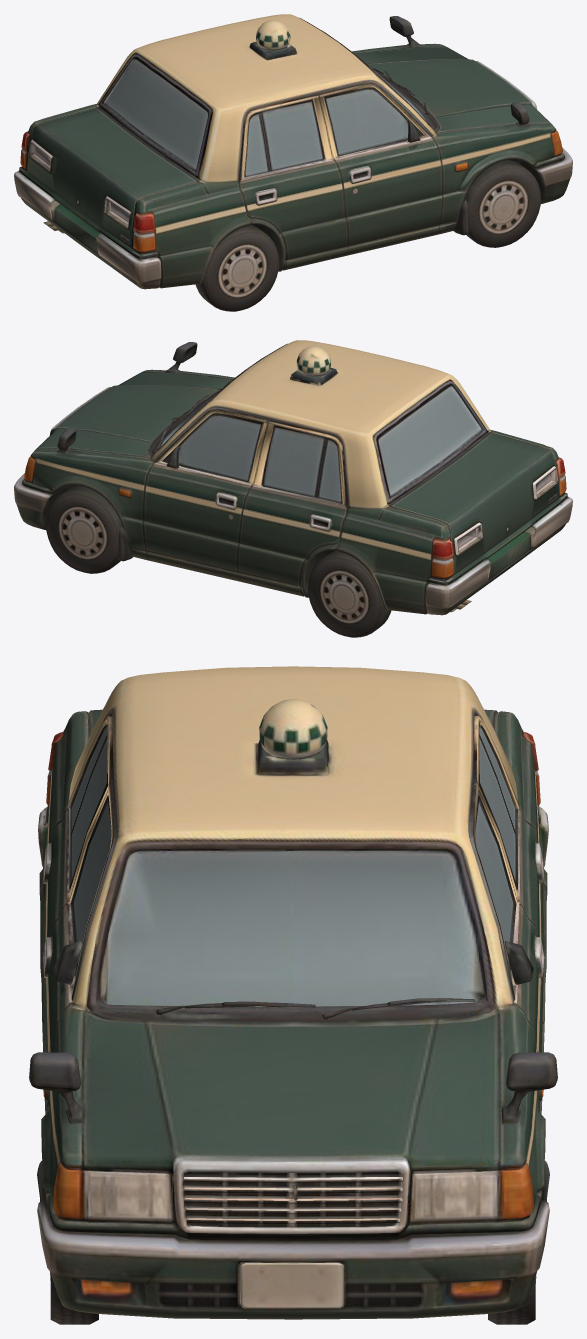
File: taxi.glb
3 renders of one model, top to bottom at view 1: azimuth 30°, elevation 25°; view 2: azimuth 150°, elevation 25°; view 3: azimuth 270°, elevation 25°, orthographic. The views are drawn at different scales.
Parts seen in each view (by area): view 1: tripo_node_44418f03-9c34-45d1-bb22-54dd6b7bd6d0; view 2: tripo_node_44418f03-9c34-45d1-bb22-54dd6b7bd6d0; view 3: tripo_node_44418f03-9c34-45d1-bb22-54dd6b7bd6d0.
Part boxes in pixels (x1,y1,x2,y2): tripo_node_44418f03-9c34-45d1-bb22-54dd6b7bd6d0: [14, 14, 572, 311]; tripo_node_44418f03-9c34-45d1-bb22-54dd6b7bd6d0: [14, 340, 572, 637]; tripo_node_44418f03-9c34-45d1-bb22-54dd6b7bd6d0: [29, 666, 557, 1324].
Bounding box in the file's own units: 0.9995 × 0.4761 × 0.5103.
1 material, 1 textured.
